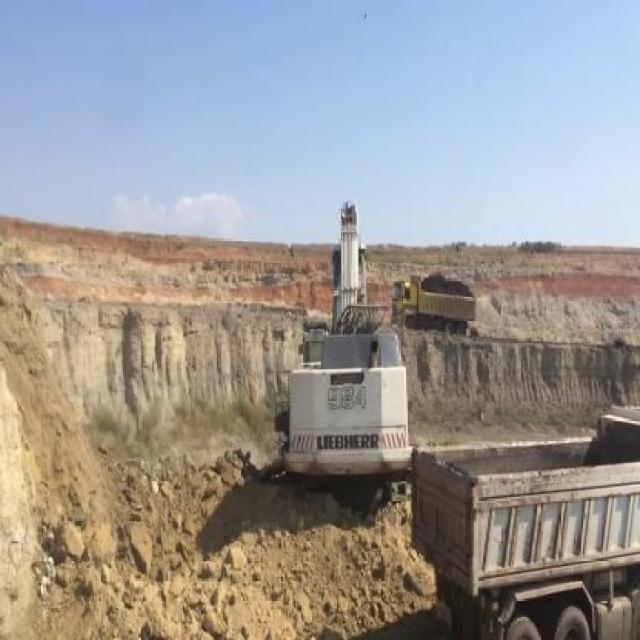Dump Truck: (412, 415, 639, 639), (392, 263, 476, 329)
Excavator: (274, 188, 415, 494)
